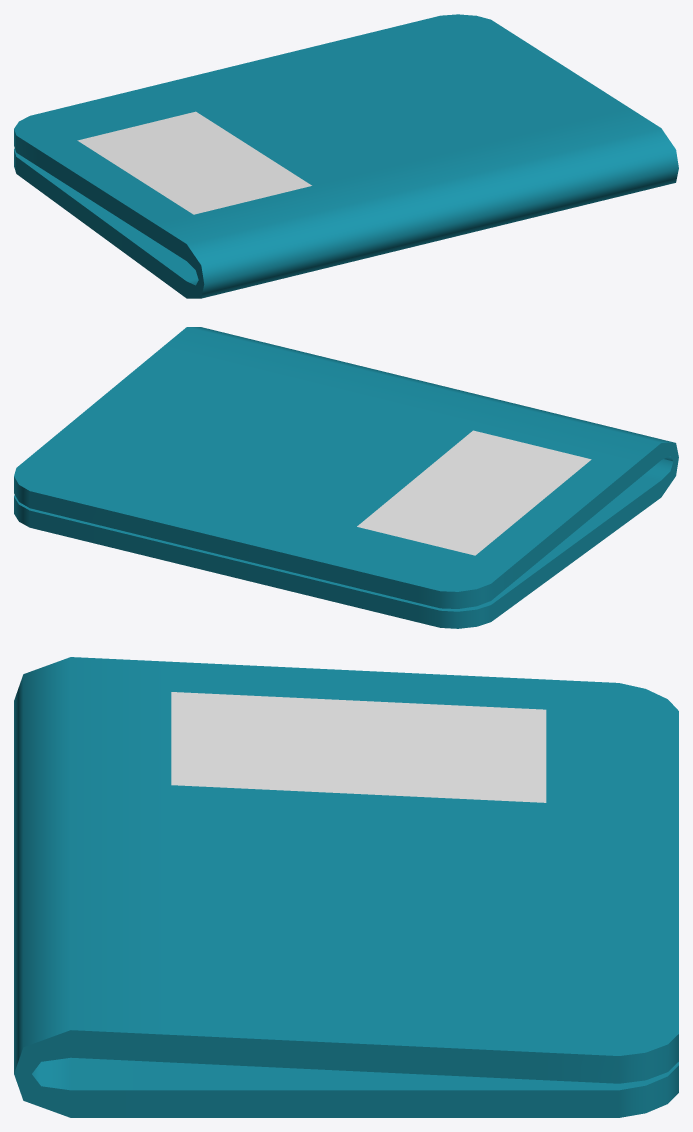
Rendered from BinderGeo.fbx.
3 views of the same model, one above another, from view 1: azimuth 30°, elevation 25°; view 2: azimuth 150°, elevation 25°; view 3: azimuth 270°, elevation 25° (orthographic). The views are drawn at different scales.
Visible parts, largest first — view 1: BinderGeo; view 2: BinderGeo; view 3: BinderGeo.
Part boxes in pixels (x1,y1,x2,y2): BinderGeo: (14, 14, 678, 298); BinderGeo: (14, 327, 678, 628); BinderGeo: (14, 657, 678, 1117).
Size of the model in its own units: 117 by 12.8 by 87.8.
